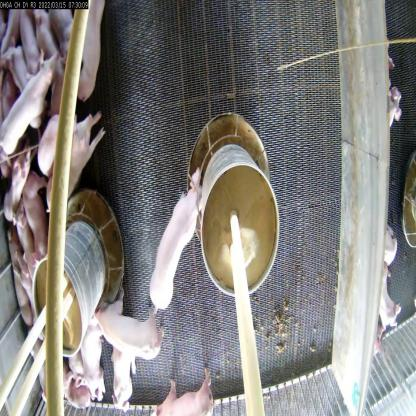Pig: (149, 186, 202, 315), (45, 109, 103, 211), (96, 298, 164, 377), (0, 59, 53, 154), (156, 363, 230, 416)
